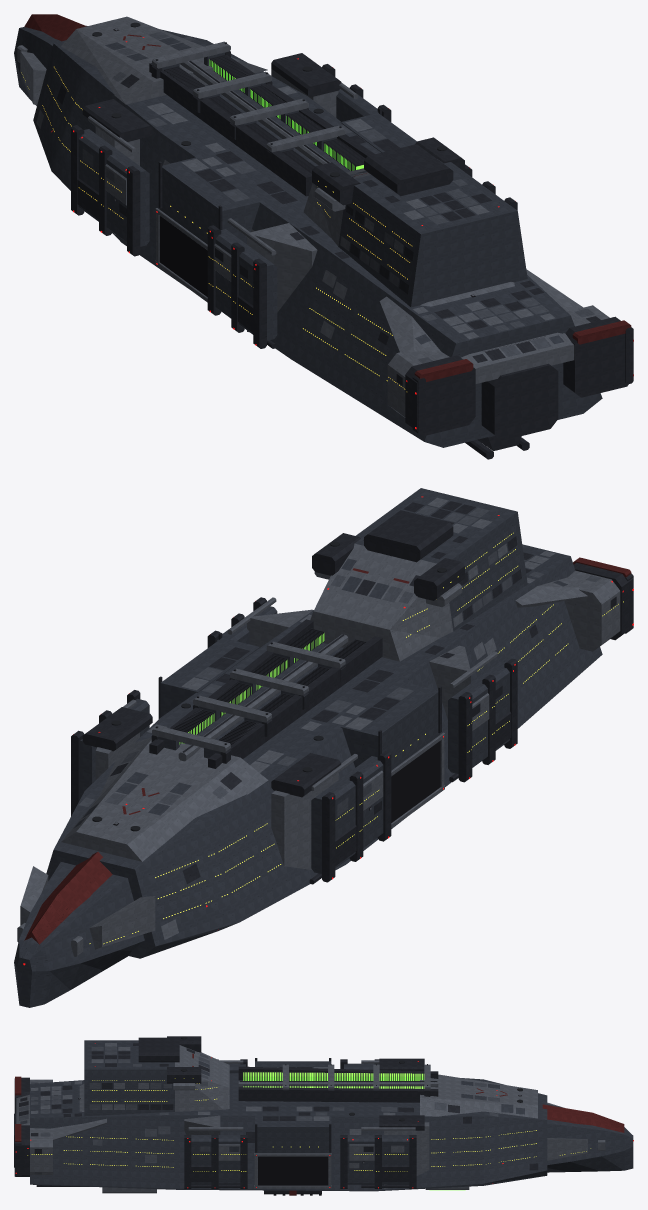
Rendered from juggernaut_hull.glb.
3 renders of one model, top to bottom at view 1: azimuth 30°, elevation 25°; view 2: azimuth 150°, elevation 25°; view 3: azimuth 270°, elevation 25°, orthographic. The views are drawn at different scales.
Visible parts, largest first — view 1: Juggernaut_Hull; view 2: Juggernaut_Hull; view 3: Juggernaut_Hull.
Boxes of the visible parts, x1=… form: Juggernaut_Hull: x1=14, y1=14, x2=633, y2=459; Juggernaut_Hull: x1=14, y1=488, x2=633, y2=1007; Juggernaut_Hull: x1=14, y1=1036, x2=633, y2=1195.
Bounding box in the file's own units: 306 × 264 × 1025.
Materials: 10 (5 with a texture image).
